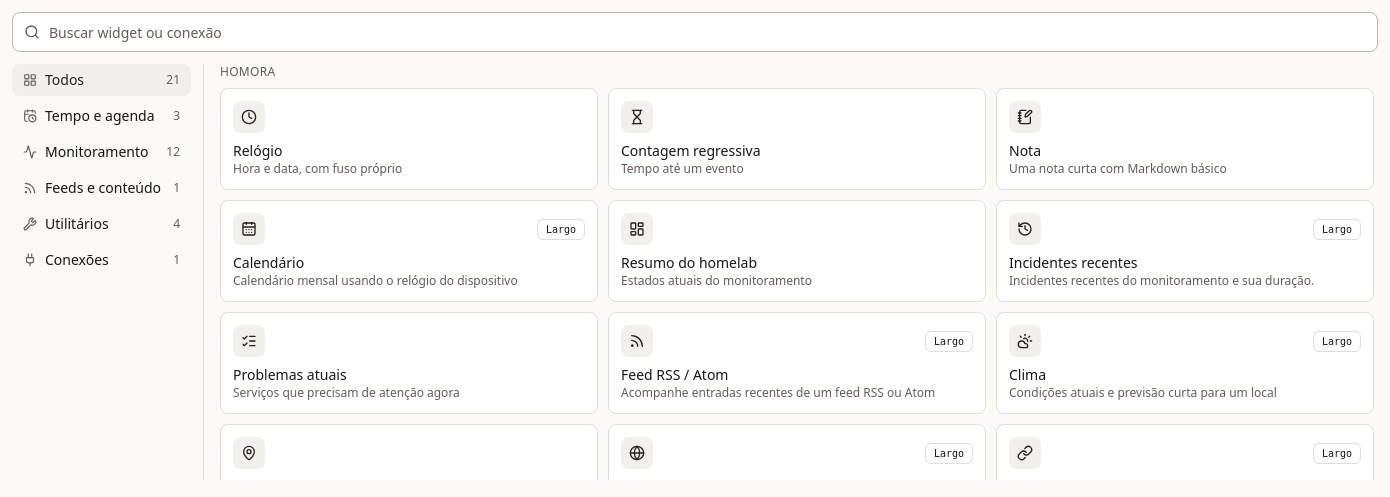
Test case: searches across all categories using keywords and description
Click the button "Monitoramento 12": [102, 152] box [12,136,191,168]
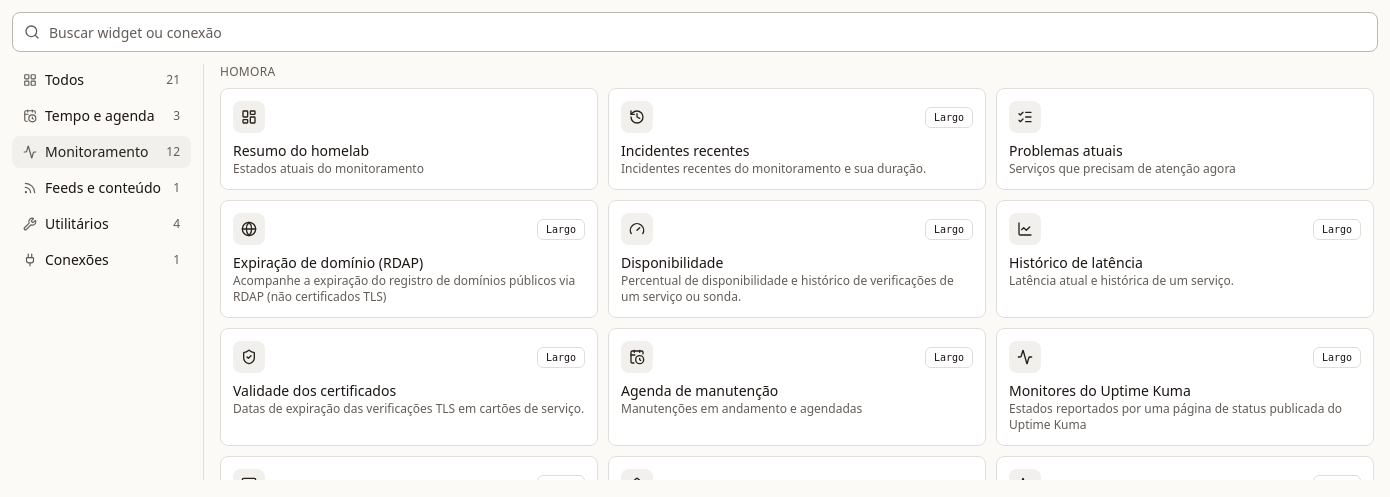
In the search field labelled "Buscar widget ou conexão": [695, 32] box [12,12,1378,52], type "timezone"
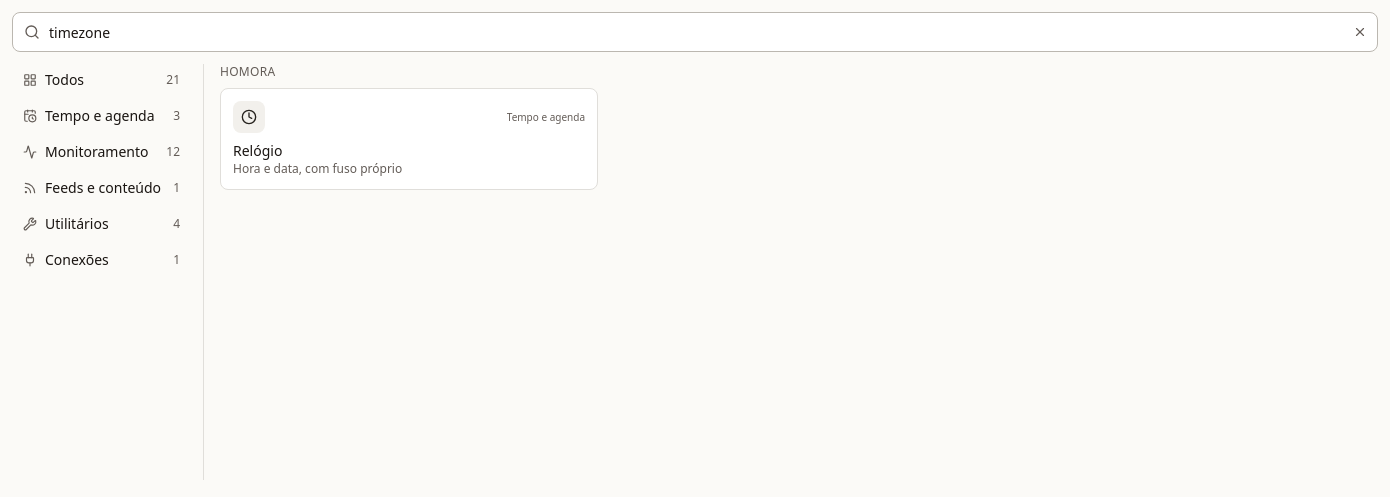
Expected: the button "Tempo e agenda Relógio Hora e data, com fuso próprio" is shown, [220,88,598,190]
Expected: the button "Problemas atuais" is gone
